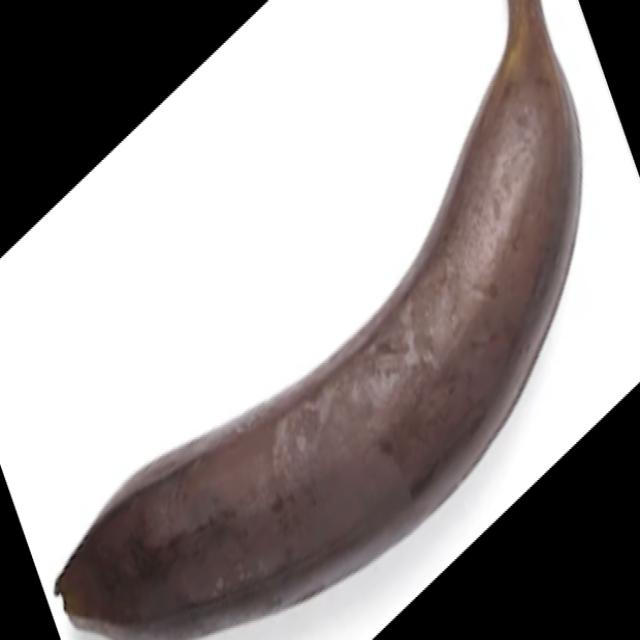Rotten: (32, 0, 601, 640)
